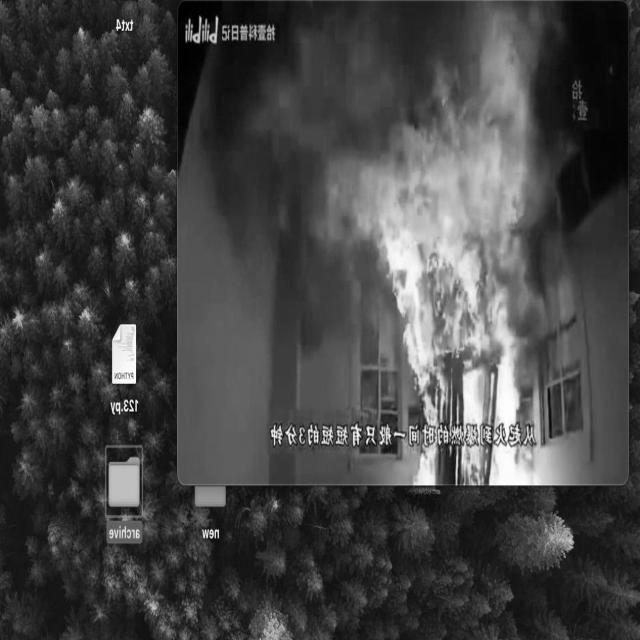smoke: (377, 18, 542, 456)
